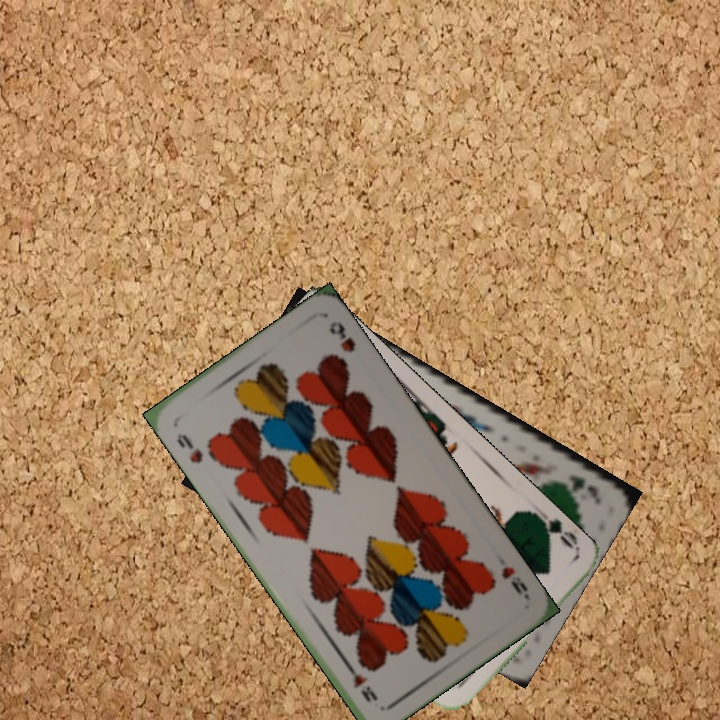GK: (565, 471, 599, 500)
GO: (532, 505, 581, 552)
H9: (497, 562, 532, 602), (172, 429, 206, 466)
